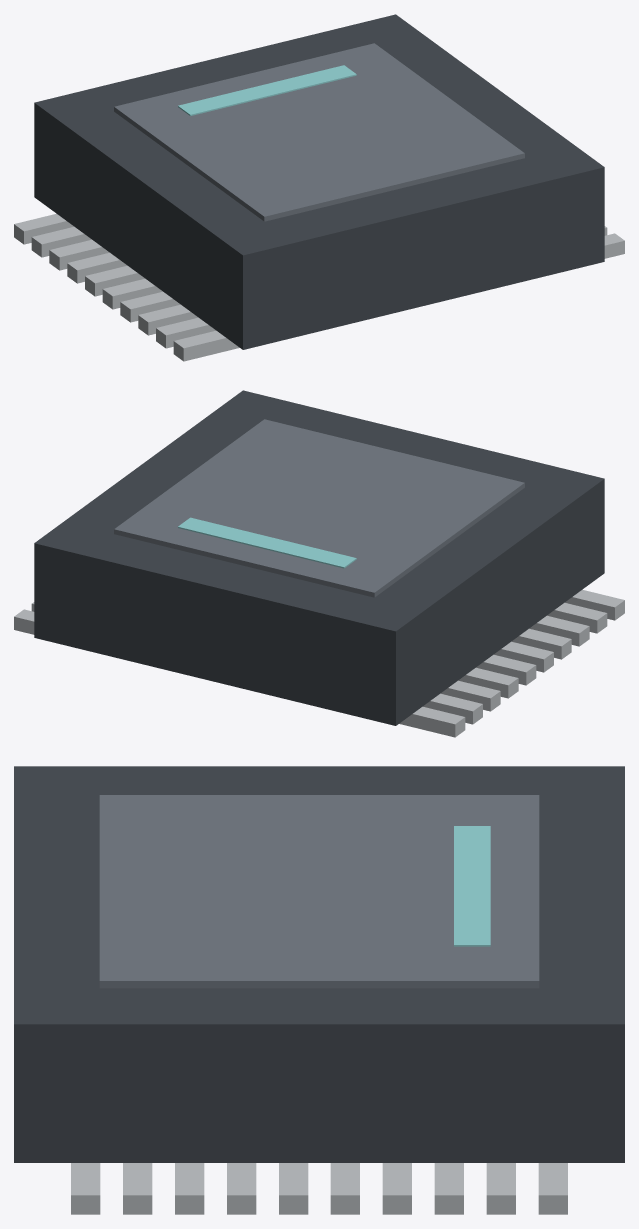
3 renders of one model, top to bottom at view 1: azimuth 30°, elevation 25°; view 2: azimuth 150°, elevation 25°; view 3: azimuth 270°, elevation 25°, orthographic. The views are drawn at different scales.
Parts seen in each view (by area): view 1: 000_Black_Epoxy__PSMAT__Black_Epoxy, 001_Silicon_Die__PSMAT__Silicon_Die, 002_Silkscreen_Cyan__PSMAT__Silkscreen_Cyan, 022_Solder_Tin__PSMAT__Solder_Tin, 014_Solder_Tin__PSMAT__Solder_Tin, 006_Solder_Tin__PSMAT__Solder_Tin, 008_Solder_Tin__PSMAT__Solder_Tin, 016_Solder_Tin__PSMAT__Solder_Tin, 018_Solder_Tin__PSMAT__Solder_Tin, 004_Solder_Tin__PSMAT__Solder_Tin, 010_Solder_Tin__PSMAT__Solder_Tin, 012_Solder_Tin__PSMAT__Solder_Tin (+1 smaller); view 2: 000_Black_Epoxy__PSMAT__Black_Epoxy, 001_Silicon_Die__PSMAT__Silicon_Die, 002_Silkscreen_Cyan__PSMAT__Silkscreen_Cyan, 004_Solder_Tin__PSMAT__Solder_Tin, 012_Solder_Tin__PSMAT__Solder_Tin, 018_Solder_Tin__PSMAT__Solder_Tin, 020_Solder_Tin__PSMAT__Solder_Tin, 010_Solder_Tin__PSMAT__Solder_Tin, 008_Solder_Tin__PSMAT__Solder_Tin, 016_Solder_Tin__PSMAT__Solder_Tin, 022_Solder_Tin__PSMAT__Solder_Tin, 006_Solder_Tin__PSMAT__Solder_Tin (+1 smaller); view 3: 000_Black_Epoxy__PSMAT__Black_Epoxy, 001_Silicon_Die__PSMAT__Silicon_Die, 002_Silkscreen_Cyan__PSMAT__Silkscreen_Cyan, 003_Solder_Tin__PSMAT__Solder_Tin, 005_Solder_Tin__PSMAT__Solder_Tin, 007_Solder_Tin__PSMAT__Solder_Tin, 009_Solder_Tin__PSMAT__Solder_Tin, 011_Solder_Tin__PSMAT__Solder_Tin, 013_Solder_Tin__PSMAT__Solder_Tin, 015_Solder_Tin__PSMAT__Solder_Tin, 017_Solder_Tin__PSMAT__Solder_Tin, 019_Solder_Tin__PSMAT__Solder_Tin (+1 smaller).
Part boxes in pixels (x1,y1,x2,y2): 000_Black_Epoxy__PSMAT__Black_Epoxy: (34, 14, 604, 349); 001_Silicon_Die__PSMAT__Silicon_Die: (114, 43, 524, 221); 002_Silkscreen_Cyan__PSMAT__Silkscreen_Cyan: (178, 65, 356, 115); 022_Solder_Tin__PSMAT__Solder_Tin: (173, 330, 239, 361); 014_Solder_Tin__PSMAT__Solder_Tin: (102, 278, 162, 309); 006_Solder_Tin__PSMAT__Solder_Tin: (31, 226, 91, 257); 008_Solder_Tin__PSMAT__Solder_Tin: (49, 239, 109, 270); 016_Solder_Tin__PSMAT__Solder_Tin: (120, 291, 180, 322); 018_Solder_Tin__PSMAT__Solder_Tin: (138, 304, 198, 335); 004_Solder_Tin__PSMAT__Solder_Tin: (14, 213, 73, 244); 010_Solder_Tin__PSMAT__Solder_Tin: (67, 252, 126, 283); 012_Solder_Tin__PSMAT__Solder_Tin: (85, 265, 144, 296); 000_Black_Epoxy__PSMAT__Black_Epoxy: (34, 390, 604, 725); 001_Silicon_Die__PSMAT__Silicon_Die: (114, 419, 524, 597); 002_Silkscreen_Cyan__PSMAT__Silkscreen_Cyan: (178, 517, 356, 568); 004_Solder_Tin__PSMAT__Solder_Tin: (399, 706, 465, 737); 012_Solder_Tin__PSMAT__Solder_Tin: (476, 654, 536, 685); 018_Solder_Tin__PSMAT__Solder_Tin: (529, 615, 589, 646); 020_Solder_Tin__PSMAT__Solder_Tin: (547, 602, 607, 633); 010_Solder_Tin__PSMAT__Solder_Tin: (458, 667, 518, 698); 008_Solder_Tin__PSMAT__Solder_Tin: (440, 680, 500, 711); 016_Solder_Tin__PSMAT__Solder_Tin: (512, 628, 571, 659); 022_Solder_Tin__PSMAT__Solder_Tin: (565, 589, 624, 620); 006_Solder_Tin__PSMAT__Solder_Tin: (423, 693, 482, 724); 000_Black_Epoxy__PSMAT__Black_Epoxy: (14, 766, 624, 1162); 001_Silicon_Die__PSMAT__Silicon_Die: (99, 795, 539, 988); 002_Silkscreen_Cyan__PSMAT__Silkscreen_Cyan: (454, 826, 490, 946); 003_Solder_Tin__PSMAT__Solder_Tin: (538, 1163, 567, 1214); 005_Solder_Tin__PSMAT__Solder_Tin: (486, 1163, 515, 1214); 007_Solder_Tin__PSMAT__Solder_Tin: (434, 1163, 463, 1214); 009_Solder_Tin__PSMAT__Solder_Tin: (382, 1163, 411, 1214); 011_Solder_Tin__PSMAT__Solder_Tin: (330, 1163, 359, 1214); 013_Solder_Tin__PSMAT__Solder_Tin: (279, 1163, 308, 1214); 015_Solder_Tin__PSMAT__Solder_Tin: (227, 1163, 256, 1214); 017_Solder_Tin__PSMAT__Solder_Tin: (175, 1163, 204, 1214); 019_Solder_Tin__PSMAT__Solder_Tin: (123, 1163, 152, 1214).
Bounding box in the file's own units: 0.0122 × 0.0031 × 0.01.
